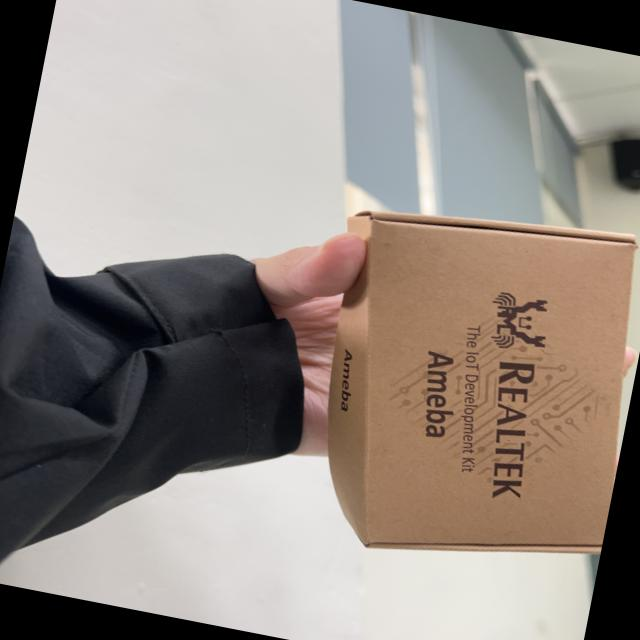box: (283, 185, 640, 599)
